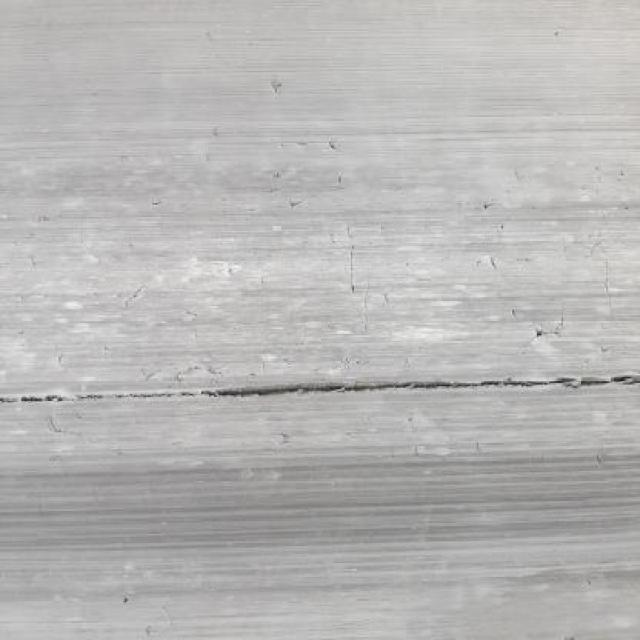Tear: (0, 364, 640, 411)
